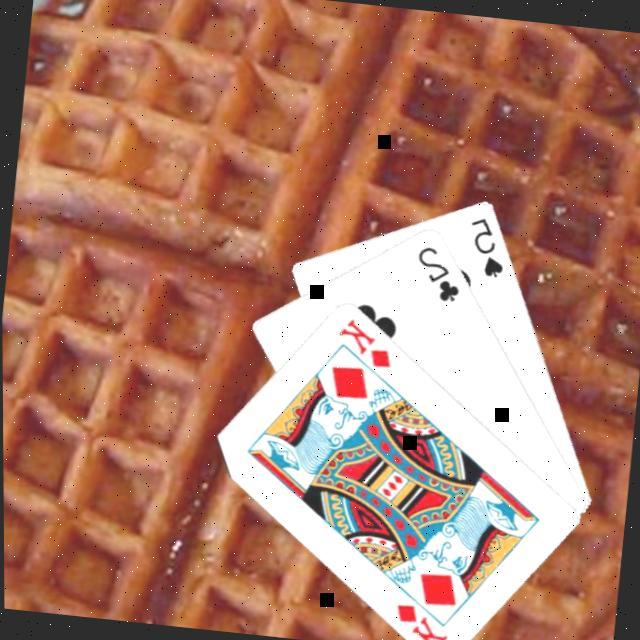2C: (409, 239, 467, 304)
5S: (463, 210, 512, 278)
KD: (332, 310, 398, 370), (388, 596, 452, 640)
